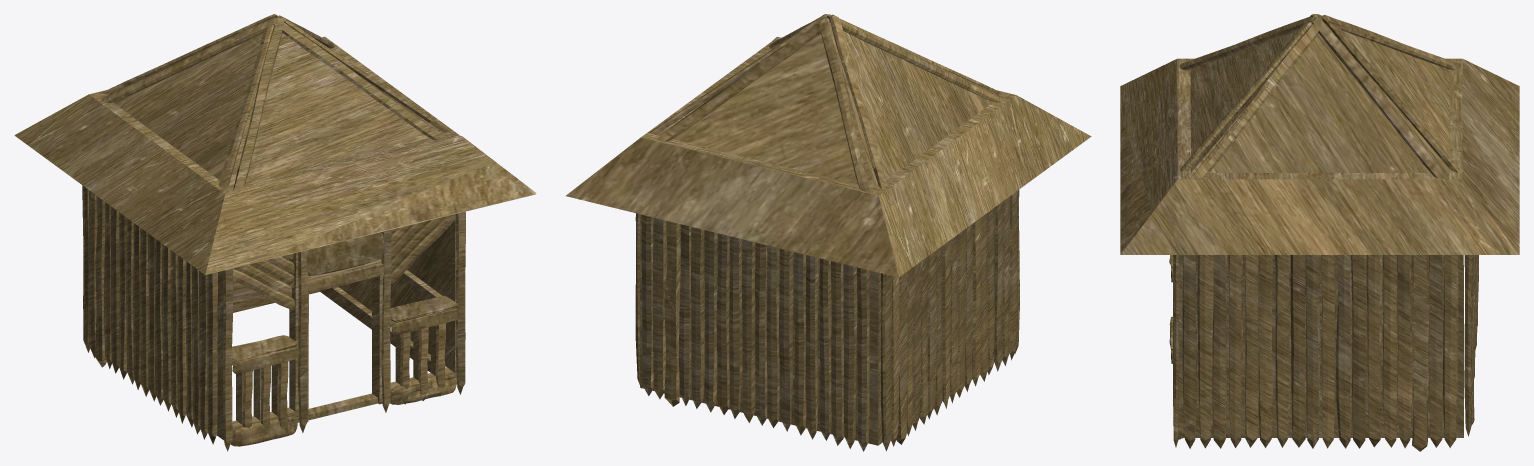
Rendered from cottage.glb.
3 views of the same model, side by side, from view 1: azimuth 30°, elevation 25°; view 2: azimuth 150°, elevation 25°; view 3: azimuth 270°, elevation 25° (orthographic). The views are drawn at different scales.
Visible parts, largest first — view 1: Cube.082; view 2: Cube.082; view 3: Cube.082.
Part boxes in pixels (<box>): Cube.082: <box>14,14,536,451</box>; Cube.082: <box>566,14,1091,451</box>; Cube.082: <box>1120,14,1519,451</box>.
Bounding box in the file's own units: 28.08 × 28.98 × 28.
1 material, 1 textured.
